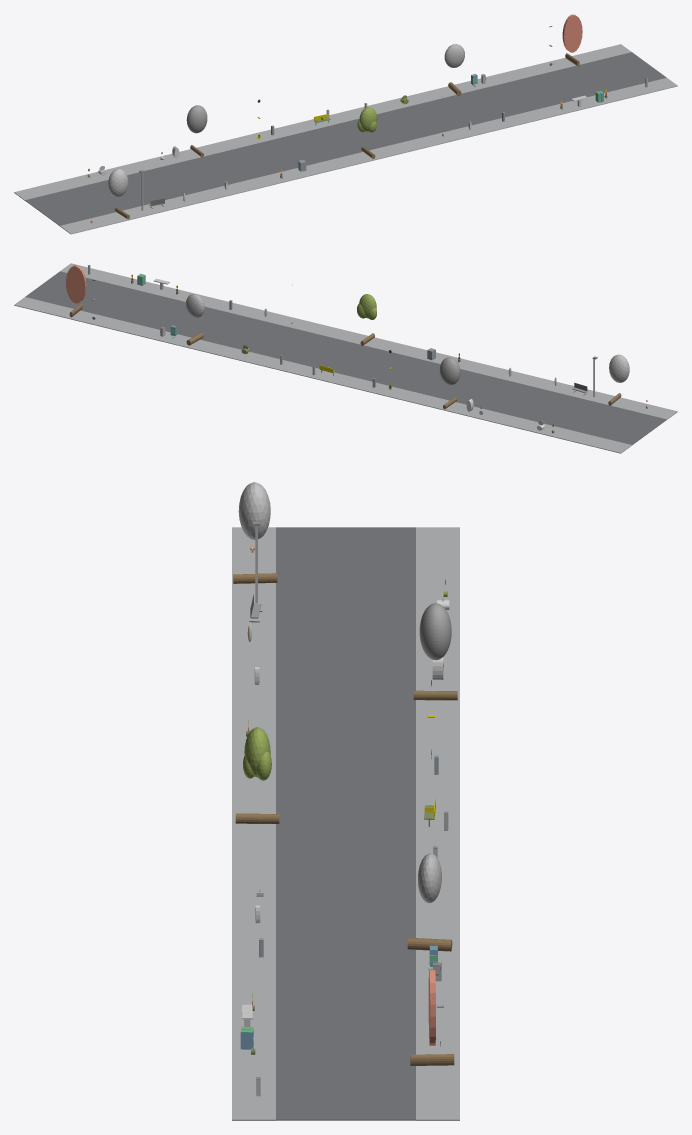
3 views of the same model, one above another, from view 1: azimuth 30°, elevation 25°; view 2: azimuth 150°, elevation 25°; view 3: azimuth 270°, elevation 25° (orthographic). The views are drawn at different scales.
Visible parts, largest first — view 1: road_slab, sidewalk_left, sidewalk_right, inst_0016, inst_0012, inst_0013, inst_0014, inst_0015; view 2: road_slab, sidewalk_right, sidewalk_left, inst_0016, inst_0012, inst_0013, inst_0014, inst_0015; view 3: road_slab, sidewalk_left, sidewalk_right, inst_0013, inst_0012, inst_0014, inst_0015, inst_0016.
Boxes of the visible parts, x1=… form: road_slab: x1=25, y1=52, x2=666, y2=225; sidewalk_left: x1=60, y1=78, x2=677, y2=234; sidewalk_right: x1=14, y1=44, x2=631, y2=200; inst_0016: x1=562, y1=14, x2=582, y2=66; inst_0012: x1=108, y1=168, x2=129, y2=219; inst_0013: x1=186, y1=105, x2=207, y2=157; inst_0014: x1=357, y1=107, x2=377, y2=158; inst_0015: x1=444, y1=44, x2=464, y2=96; road_slab: x1=25, y1=271, x2=666, y2=445; sidewalk_right: x1=14, y1=297, x2=631, y2=453; sidewalk_left: x1=60, y1=263, x2=677, y2=419; inst_0016: x1=66, y1=265, x2=86, y2=317; inst_0012: x1=608, y1=354, x2=629, y2=405; inst_0013: x1=439, y1=357, x2=460, y2=409; inst_0014: x1=357, y1=294, x2=376, y2=345; inst_0015: x1=186, y1=294, x2=204, y2=345; road_slab: x1=276, y1=527, x2=415, y2=1120; sidewalk_left: x1=232, y1=527, x2=275, y2=1120; sidewalk_right: x1=416, y1=527, x2=459, y2=1120; inst_0013: x1=413, y1=603, x2=457, y2=700; inst_0012: x1=233, y1=482, x2=277, y2=583; inst_0014: x1=235, y1=727, x2=279, y2=823; inst_0015: x1=407, y1=853, x2=452, y2=951; inst_0016: x1=410, y1=969, x2=454, y2=1065.
Bounding box in the file's own units: 80 × 6.08 × 13.
